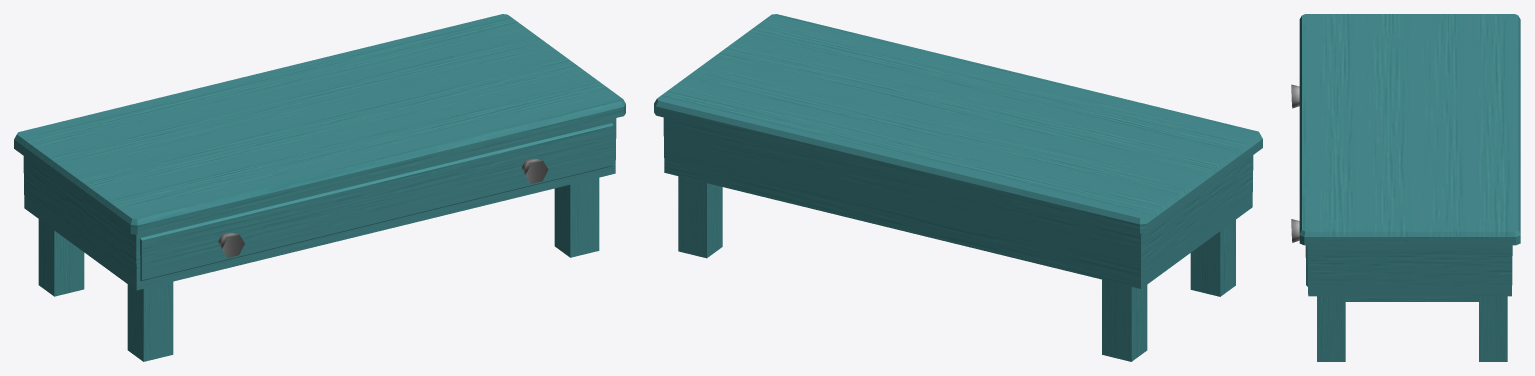
File: Coffee_Table_B_5.FBX
The picture shows the model from 3 angles, left to right: view 1: azimuth 30°, elevation 25°; view 2: azimuth 150°, elevation 25°; view 3: azimuth 270°, elevation 25°; orthographic projection. The views are drawn at different scales.
Visible parts, largest first — view 1: Coffee Table_B; view 2: Coffee Table_B; view 3: Coffee Table_B.
Boxes of the visible parts, <box> form: Coffee Table_B: <box>14,14,625,361</box>; Coffee Table_B: <box>654,14,1262,361</box>; Coffee Table_B: <box>1291,14,1520,361</box>.
Bounding box in the file's own units: 201 × 58.91 × 88.61.
